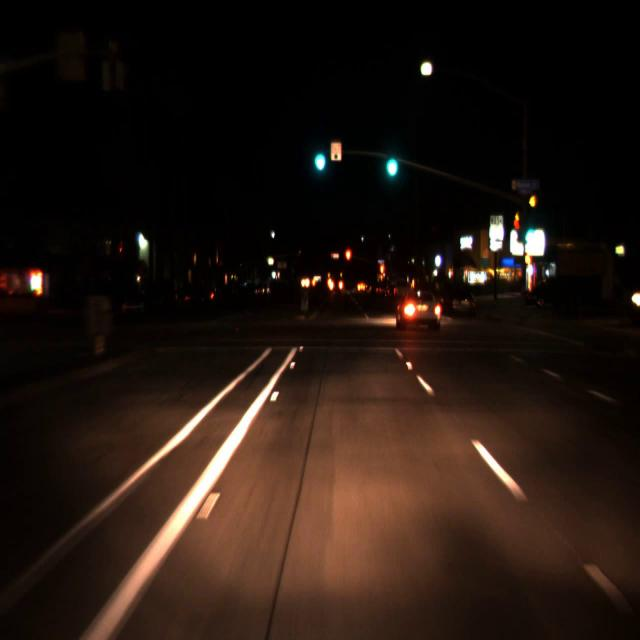go: (382, 134, 400, 184), (310, 132, 328, 178), (520, 218, 536, 246)
go traffic light: (382, 134, 400, 184), (310, 132, 328, 178), (520, 218, 536, 246)
stop: (344, 247, 352, 275), (379, 261, 385, 286)
stop traffic light: (344, 247, 352, 275), (379, 261, 385, 286)
